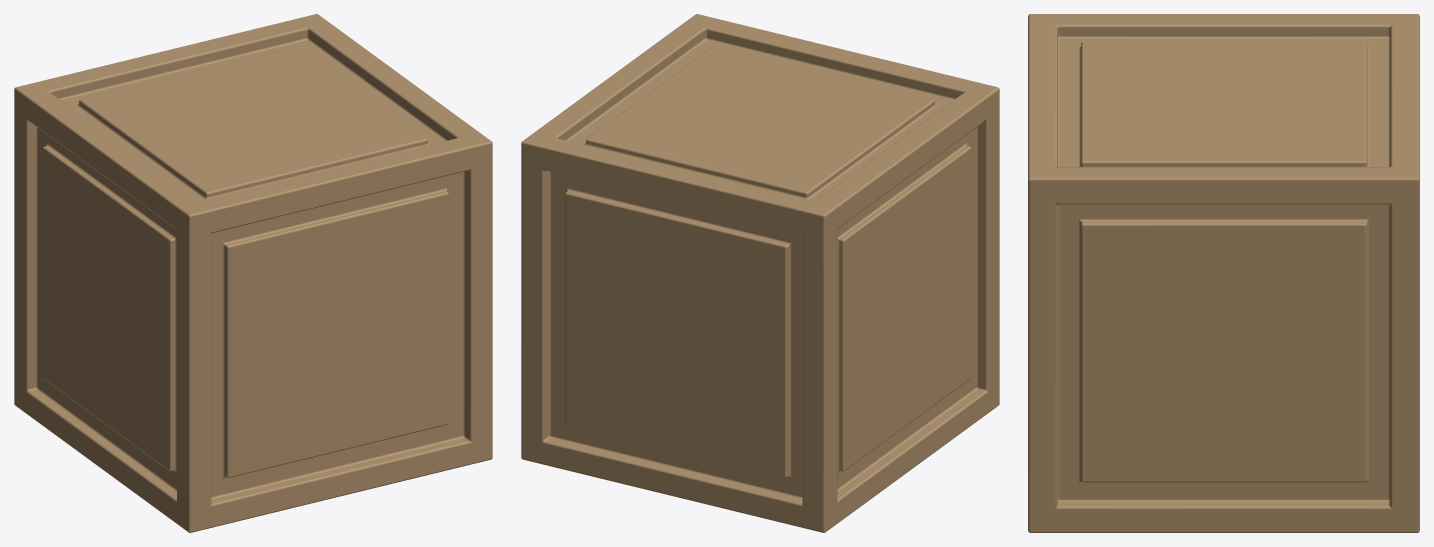
Rendered from crate.glb.
3 renders of one model, left to right at view 1: azimuth 30°, elevation 25°; view 2: azimuth 150°, elevation 25°; view 3: azimuth 270°, elevation 25°, orthographic. The views are drawn at different scales.
Visible parts, largest first — view 1: Crate; view 2: Crate; view 3: Crate.
Boxes of the visible parts, x1,y1,x2,y2 form: Crate: [14, 14, 492, 532]; Crate: [521, 14, 999, 532]; Crate: [1028, 14, 1419, 532].
Size of the model in its own units: 1 by 1 by 1.
